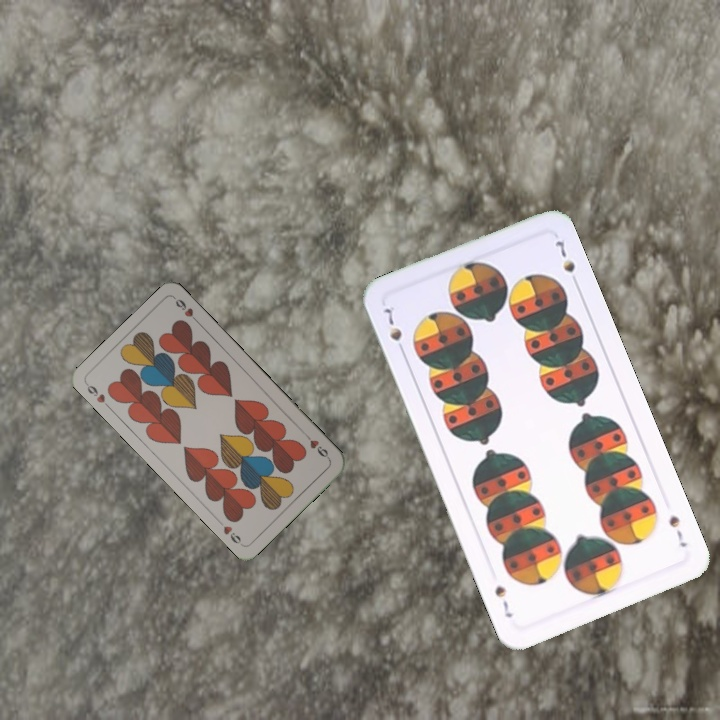H9: (301, 430, 333, 462), (82, 379, 113, 412)
S7: (379, 300, 408, 358), (664, 511, 690, 550)
